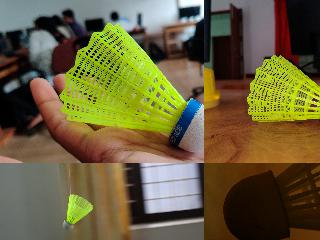shuttlecock: (60, 23, 203, 154), (223, 163, 319, 239), (246, 54, 319, 129), (62, 194, 94, 230)
